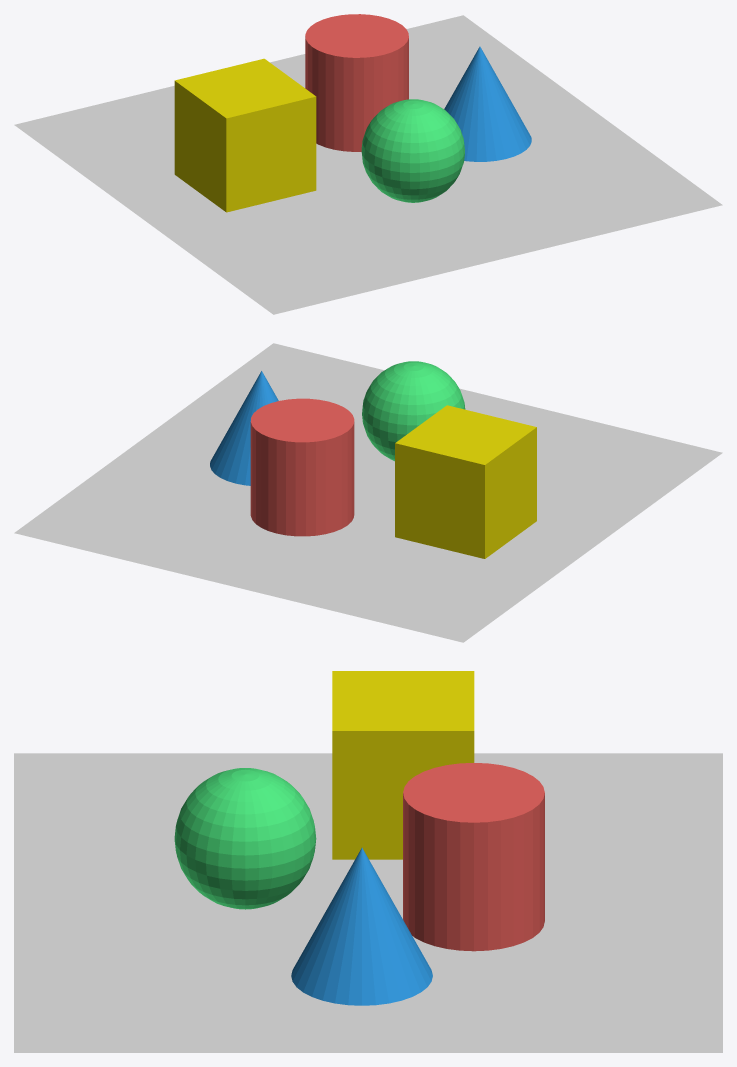
File: simple-scene-ortho.dae
The picture shows the model from 3 angles, top to bottom: view 1: azimuth 30°, elevation 25°; view 2: azimuth 150°, elevation 25°; view 3: azimuth 270°, elevation 25°; orthographic projection. The views are drawn at different scales.
Parts seen in each view (by area): view 1: Plane, Cube, Cylinder, Sphere, Cone; view 2: Plane, Cube, Cylinder, Sphere, Cone; view 3: Plane, Cylinder, Cube, Sphere, Cone.
Boxes of the visible parts, x1,y1,x2,y2 form: Plane: (14,15,722,314); Cube: (174,58,316,212); Cylinder: (305,14,408,151); Sphere: (361,99,464,202); Cone: (444,46,531,161); Plane: (14,343,722,642); Cube: (395,405,536,558); Cylinder: (250,398,354,536); Sphere: (362,361,465,461); Cone: (210,371,278,485); Plane: (14,753,722,1052); Cylinder: (403,763,544,951); Cube: (332,671,474,859); Sphere: (174,768,316,909); Cone: (291,847,432,1005).
Bounding box in the file's own units: 10 × 10 × 2.
